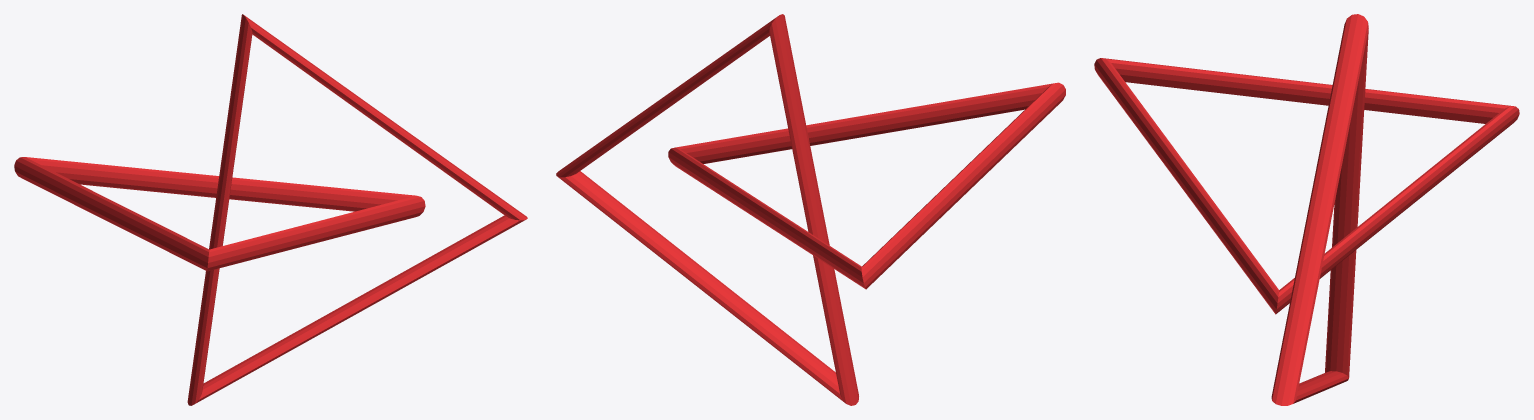
File: TriangleEvilwAnimations.fbx
3 views of the same model, side by side, from view 1: azimuth 30°, elevation 25°; view 2: azimuth 150°, elevation 25°; view 3: azimuth 270°, elevation 25° (orthographic). The views are drawn at different scales.
Visible parts, largest first — view 1: Triangle.001, Triangle; view 2: Triangle.001, Triangle; view 3: Triangle.001, Triangle.
Boxes of the visible parts, x1,y1,x2,y2 form: Triangle.001: (14, 157, 425, 271); Triangle: (187, 14, 527, 405); Triangle.001: (668, 82, 1065, 289); Triangle: (556, 14, 858, 405); Triangle.001: (1094, 58, 1519, 314); Triangle: (1271, 14, 1368, 405).
Size of the model in its own units: 577 by 501 by 481.
